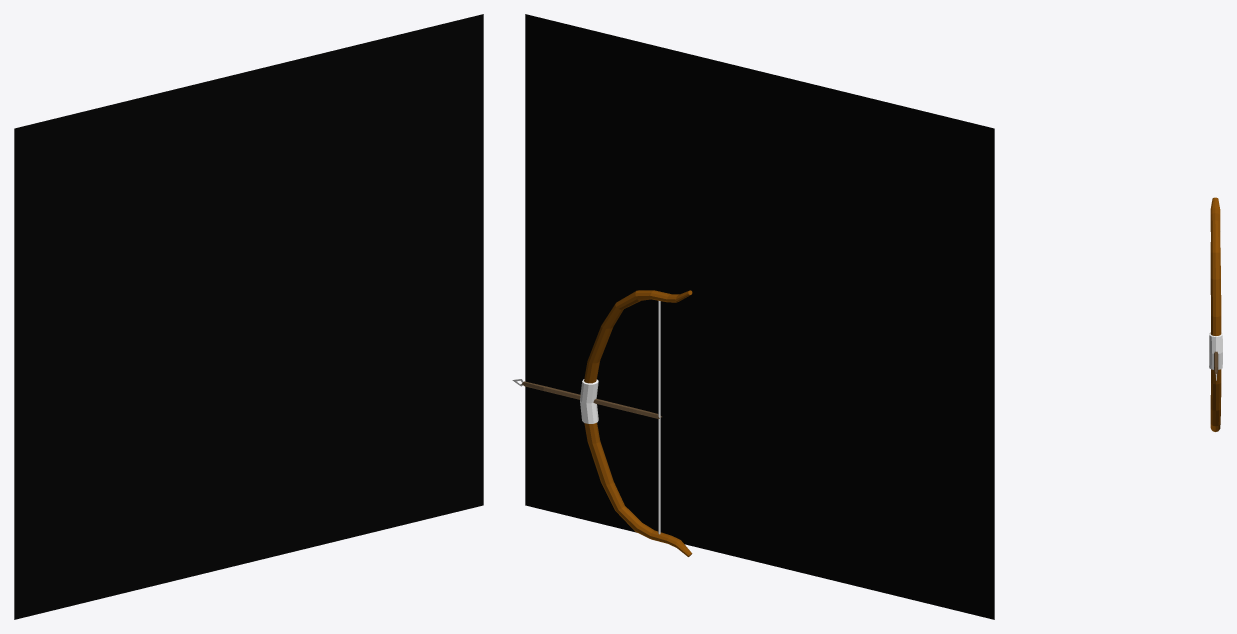
File: ARCO.fbx
3 views of the same model, side by side, from view 1: azimuth 30°, elevation 25°; view 2: azimuth 150°, elevation 25°; view 3: azimuth 270°, elevation 25° (orthographic). The views are drawn at different scales.
Parts seen in each view (by area): view 1: Plano; view 2: Plano, arco, flecha, linha; view 3: arco.
Boxes of the visible parts, x1,y1,x2,y2 form: Plano: (14,14,483,619); Plano: (525,14,994,619); arco: (580,290,692,556); flecha: (521,381,661,418); linha: (658,300,660,534); arco: (1209,197,1222,431).
Size of the model in its own units: 828 by 828 by 363.
